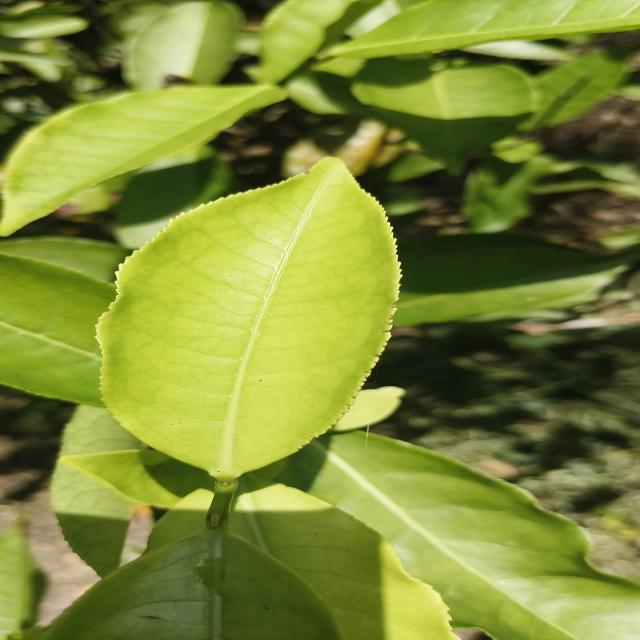Leaf: (97, 158, 400, 481), (278, 431, 640, 640), (0, 84, 283, 236), (229, 474, 457, 640), (48, 529, 341, 640), (352, 58, 532, 173), (326, 0, 640, 58), (0, 254, 116, 406), (395, 247, 620, 324), (114, 144, 231, 248), (251, 0, 381, 84), (122, 0, 243, 90), (60, 449, 213, 508), (523, 51, 626, 130), (146, 489, 212, 552)
